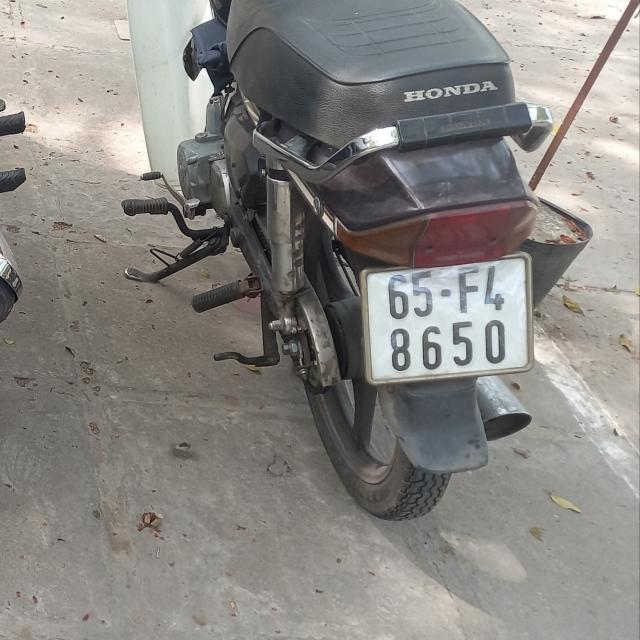0: (486, 320, 504, 364)
4: (486, 266, 506, 312)
5: (413, 272, 432, 318), (453, 321, 472, 366)
6: (389, 274, 409, 320), (421, 325, 441, 369)
8: (392, 329, 411, 373)
F: (458, 267, 479, 314)
